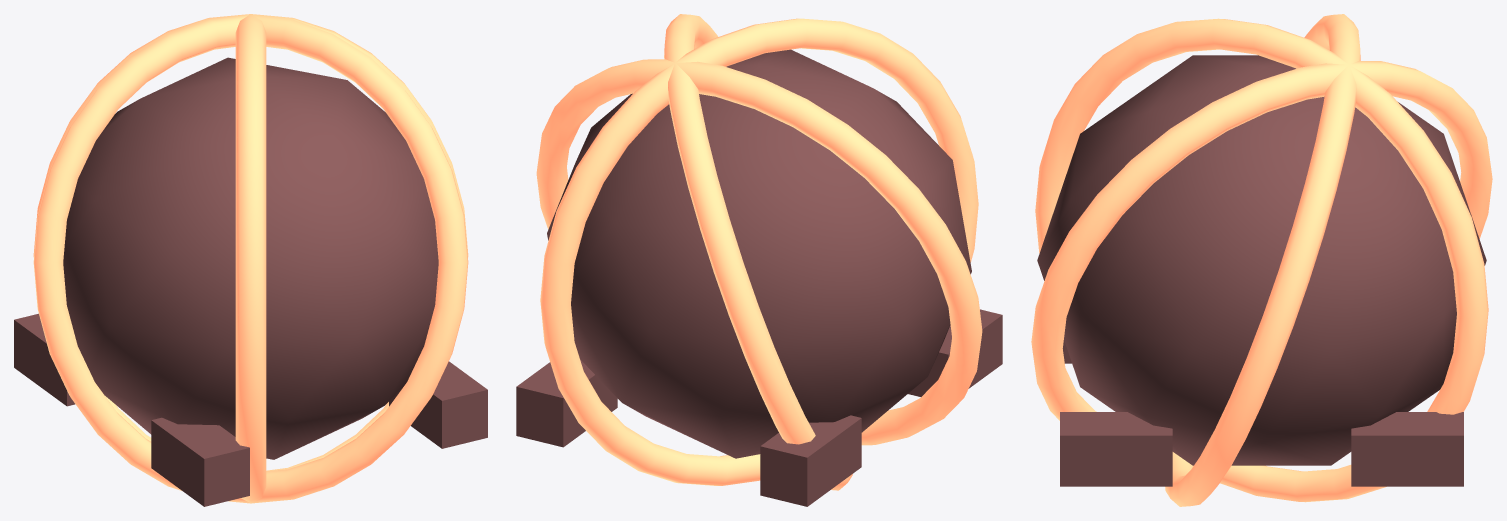
File: bomber.glb
3 views of the same model, side by side, from view 1: azimuth 30°, elevation 25°; view 2: azimuth 150°, elevation 25°; view 3: azimuth 270°, elevation 25° (orthographic). The views are drawn at different scales.
Parts seen in each view (by area): view 1: shell, ring.002, ring, ring.001, leg.002, leg.003, leg.001; view 2: shell, ring.001, ring, ring.002, leg.001, leg, leg.002; view 3: shell, ring.001, ring.002, ring, leg.003, leg.
Part boxes in pixels (x1,y1,x2,y2): shell: (63,57,438,459); ring.002: (33,14,468,503); ring: (33,14,468,503); ring.001: (235,14,266,502); leg.002: (151,417,249,506); leg.003: (389,361,487,448); leg.001: (14,313,74,406); shell: (547,49,971,458); ring.001: (540,18,978,485); ring: (536,59,982,445); ring.002: (664,14,852,490); leg.001: (760,415,861,506); leg: (516,359,617,447); leg.002: (908,309,1002,396); shell: (1037,55,1486,465); ring.001: (1035,18,1488,502); ring.002: (1031,61,1492,420); ring: (1165,14,1360,506); leg.003: (1060,412,1172,486); leg: (1351,412,1463,486).
Bounding box in the file's own units: 1.11 × 1.11 × 0.985.
